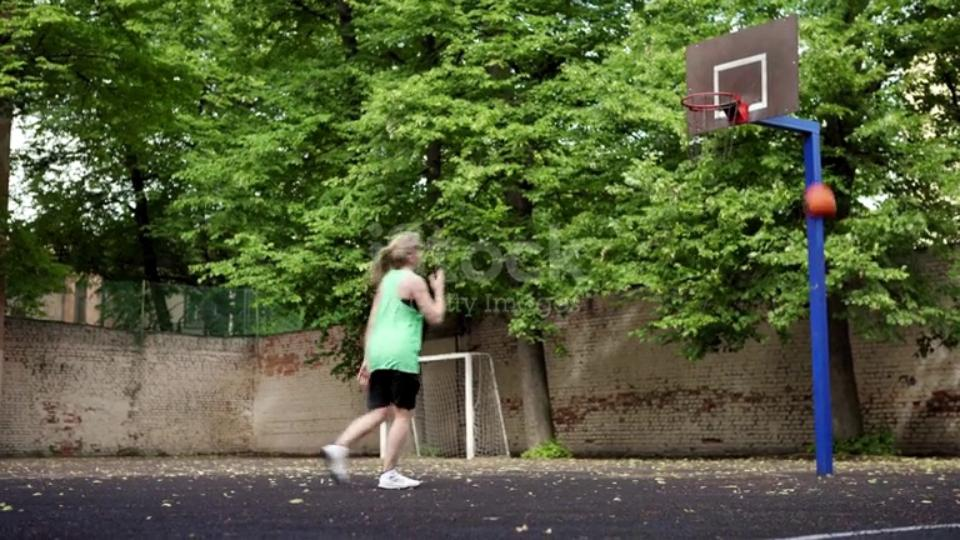hoop: (680, 92, 741, 112)
